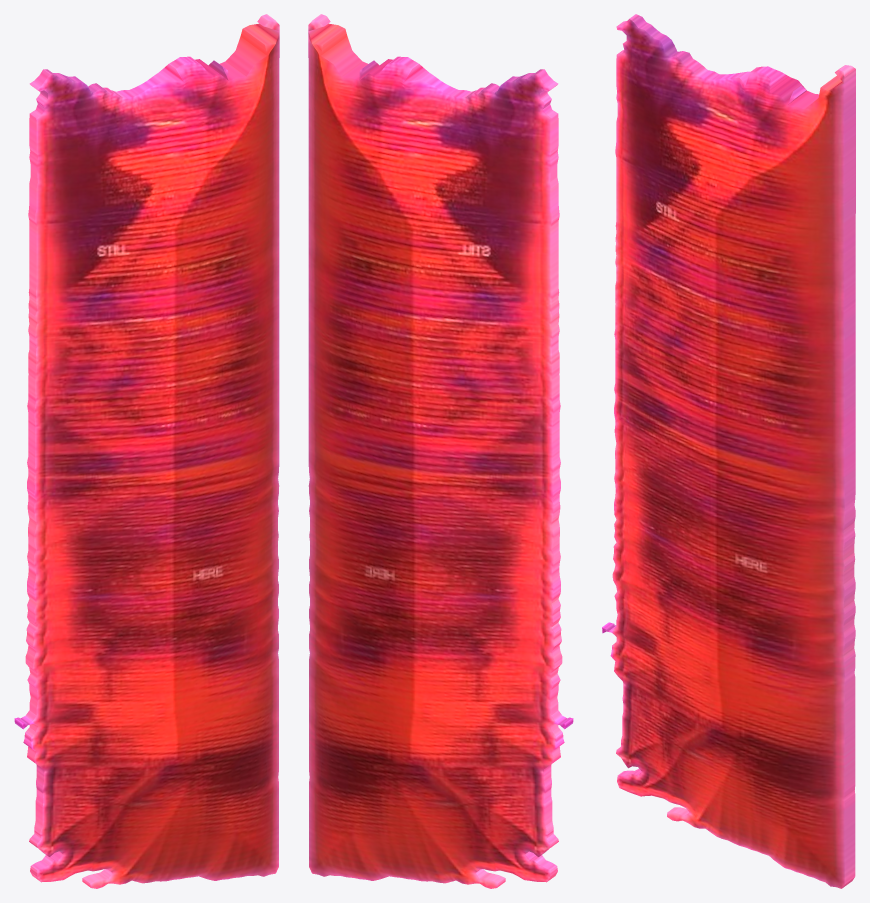
3 renders of one model, left to right at view 1: azimuth 30°, elevation 25°; view 2: azimuth 150°, elevation 25°; view 3: azimuth 330°, elevation 25°, orthographic. The views are drawn at different scales.
Bounding box in the file's own units: 3 × 9.58 × 0.8636.
1 material, 1 textured.
